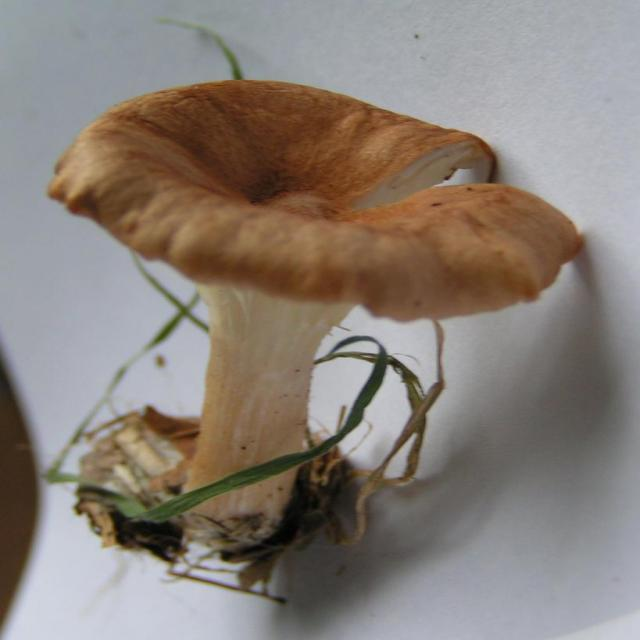Clitocybe maxima: (46, 79, 581, 555)
